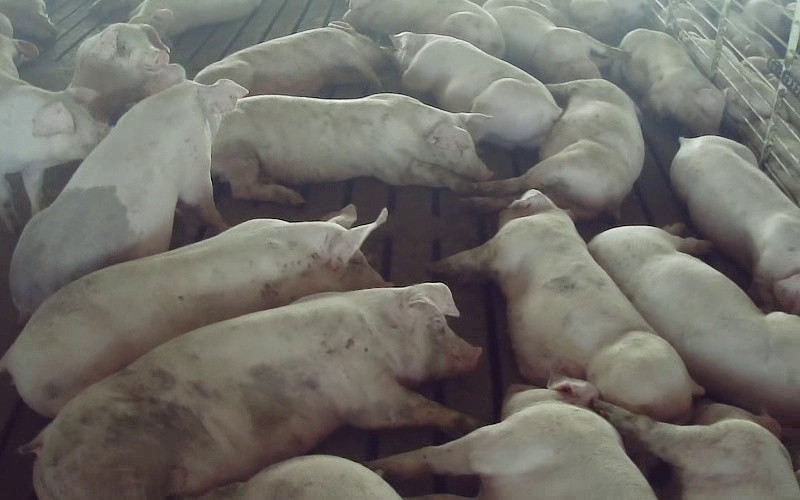pig: (0, 207, 386, 416), (435, 190, 701, 421), (10, 65, 246, 315), (589, 226, 799, 423), (369, 376, 655, 499), (212, 94, 492, 204), (465, 79, 643, 217), (670, 136, 799, 313), (594, 400, 799, 499), (394, 32, 560, 147), (194, 21, 388, 96), (484, 0, 624, 82), (620, 29, 724, 135), (69, 23, 168, 120), (343, 0, 504, 57)
